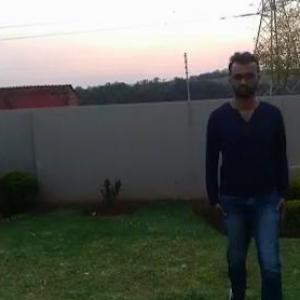follow: (208, 46, 292, 299)
